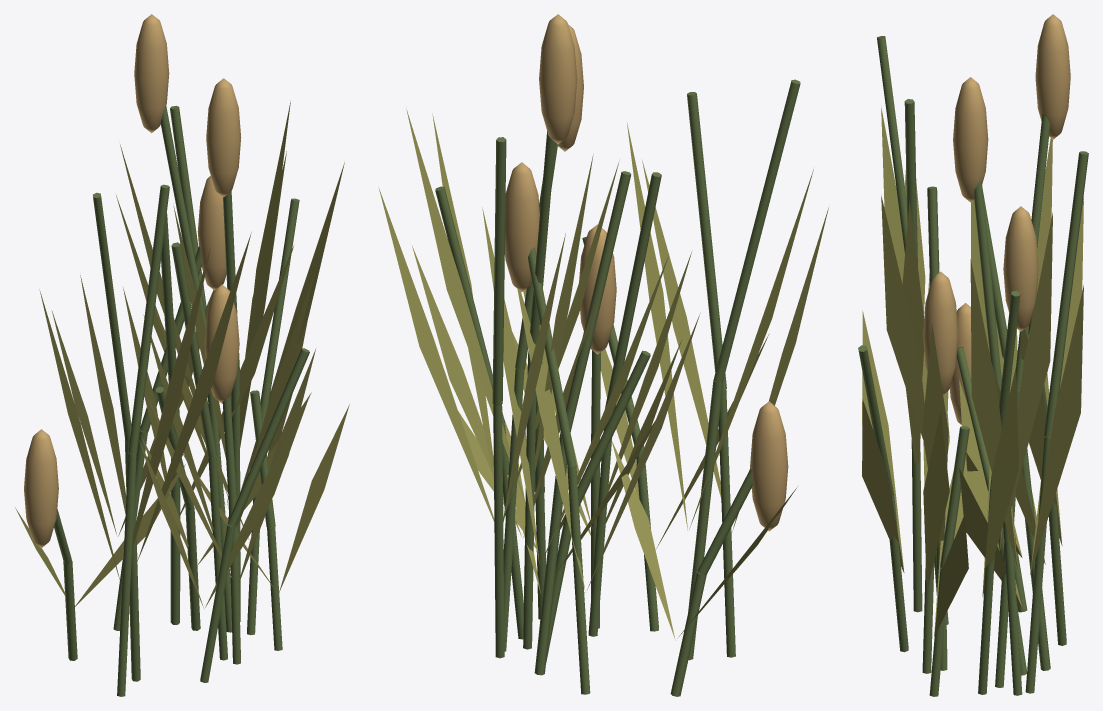
File: ReedClump.fbx
3 renders of one model, left to right at view 1: azimuth 30°, elevation 25°; view 2: azimuth 150°, elevation 25°; view 3: azimuth 270°, elevation 25°, orthographic. The views are drawn at different scales.
Parts seen in each view (by area): view 1: Cattail seed head, Cattail seed head.004, Cattail seed head.002, Reed leaf.017, Reed stem 2.010, Reed leaf.021, Reed leaf.013, Cattail seed head.003, Cattail seed head.001, Reed stem 2.008, Reed stem 1.010, Reed stem 2.013 (+40 smaller); view 2: Cattail seed head.002, Cattail seed head.004, Cattail seed head.003, Reed leaf.013, Reed leaf.011, Reed stem 2.008, Reed stem 2.010, Reed stem 2.005, Reed leaf.021, Reed leaf.017, Reed stem 2.001, Reed stem 1.005 (+40 smaller); view 3: Reed leaf.013, Reed leaf.011, Reed leaf.017, Reed leaf.001, Cattail seed head, Cattail seed head.002, Cattail seed head.003, Reed leaf.023, Reed stem 2.005, Cattail seed head.001, Reed leaf.007, Reed leaf.027 (+39 smaller).
Boxes of the visible parts, x1,y1,x2,y2 form: Cattail seed head: (206, 78, 241, 197); Cattail seed head.004: (24, 429, 58, 548); Cattail seed head.002: (134, 14, 169, 133); Reed leaf.017: (137, 232, 251, 561); Reed stem 2.010: (128, 184, 169, 454); Reed leaf.021: (121, 248, 210, 582); Reed leaf.013: (235, 100, 290, 475); Cattail seed head.003: (197, 176, 226, 290); Cattail seed head.001: (204, 284, 239, 403); Reed stem 2.008: (93, 192, 131, 442); Reed stem 1.010: (117, 453, 136, 696); Reed stem 2.013: (227, 348, 309, 526); Cattail seed head.002: (539, 14, 577, 144); Cattail seed head.004: (750, 401, 788, 531); Cattail seed head.003: (505, 162, 539, 292); Reed leaf.013: (406, 109, 525, 503); Reed leaf.011: (378, 187, 494, 521); Reed stem 2.008: (714, 79, 800, 382); Reed stem 2.010: (687, 92, 726, 390); Reed stem 2.005: (492, 137, 506, 406); Reed leaf.021: (642, 160, 730, 532); Reed leaf.017: (627, 123, 687, 530); Reed stem 2.001: (560, 171, 631, 432); Reed stem 1.005: (493, 405, 504, 658); Reed leaf.013: (999, 212, 1052, 551); Reed leaf.011: (1030, 285, 1083, 574); Reed leaf.017: (881, 196, 924, 439); Reed leaf.001: (970, 259, 1017, 569); Cattail seed head: (953, 77, 988, 202); Cattail seed head.002: (1035, 14, 1070, 139); Cattail seed head.003: (1003, 206, 1038, 331); Reed leaf.023: (982, 367, 1018, 596); Reed stem 2.005: (1044, 151, 1088, 437); Cattail seed head.001: (923, 271, 958, 394); Reed leaf.007: (923, 411, 949, 589); Reed leaf.027: (862, 399, 904, 572).
Size of the model in its own units: 0.7442 by 1.29 by 0.4184.
